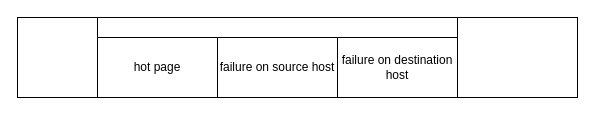
Some shapes in this 595 by 115 pixel diagram are drawn without their labels. Each missing label, with the centre of its shape:
"guest performance" goes at point 517,57.
"Sucess Rate" goes at point 277,27.
